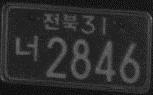1: (100, 14, 108, 36)
2: (45, 36, 68, 79)
3: (81, 14, 96, 35)
4: (94, 41, 117, 82)
6: (117, 41, 140, 85)
8: (70, 38, 91, 79)
너: (14, 34, 39, 63)
전북_O: (42, 12, 78, 33)
